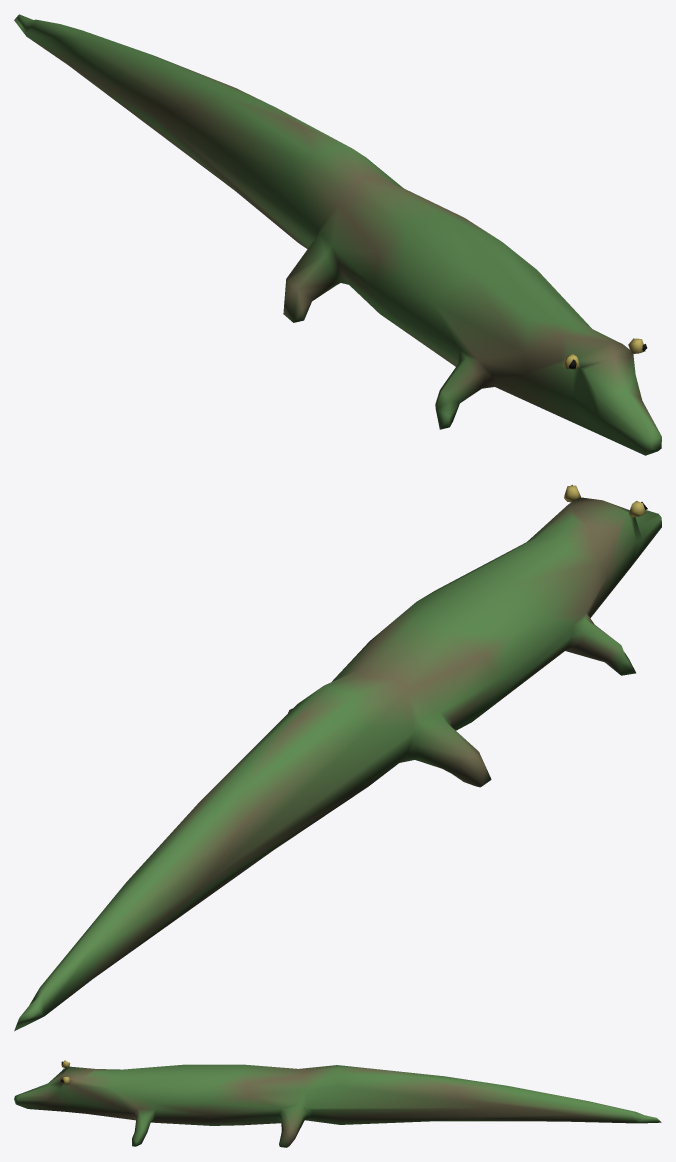
Rendered from eidechse.glb.
3 renders of one model, top to bottom at view 1: azimuth 30°, elevation 25°; view 2: azimuth 150°, elevation 25°; view 3: azimuth 270°, elevation 25°, orthographic. The views are drawn at different scales.
Parts seen in each view (by area): view 1: lack; view 2: lack; view 3: lack.
Boxes of the visible parts, box(x1,y1,x2,y2) form: lack: box(14, 14, 661, 455); lack: box(14, 485, 661, 1031); lack: box(14, 1060, 661, 1147).
Bounding box in the file's own units: 0.0389 × 0.0212 × 0.2173.
